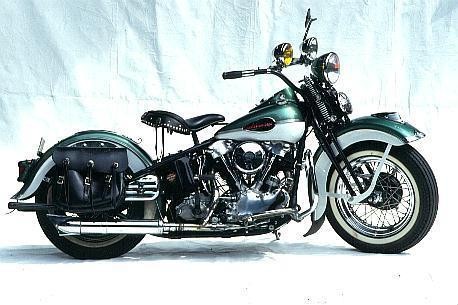motorcycle: (9, 29, 442, 260)
